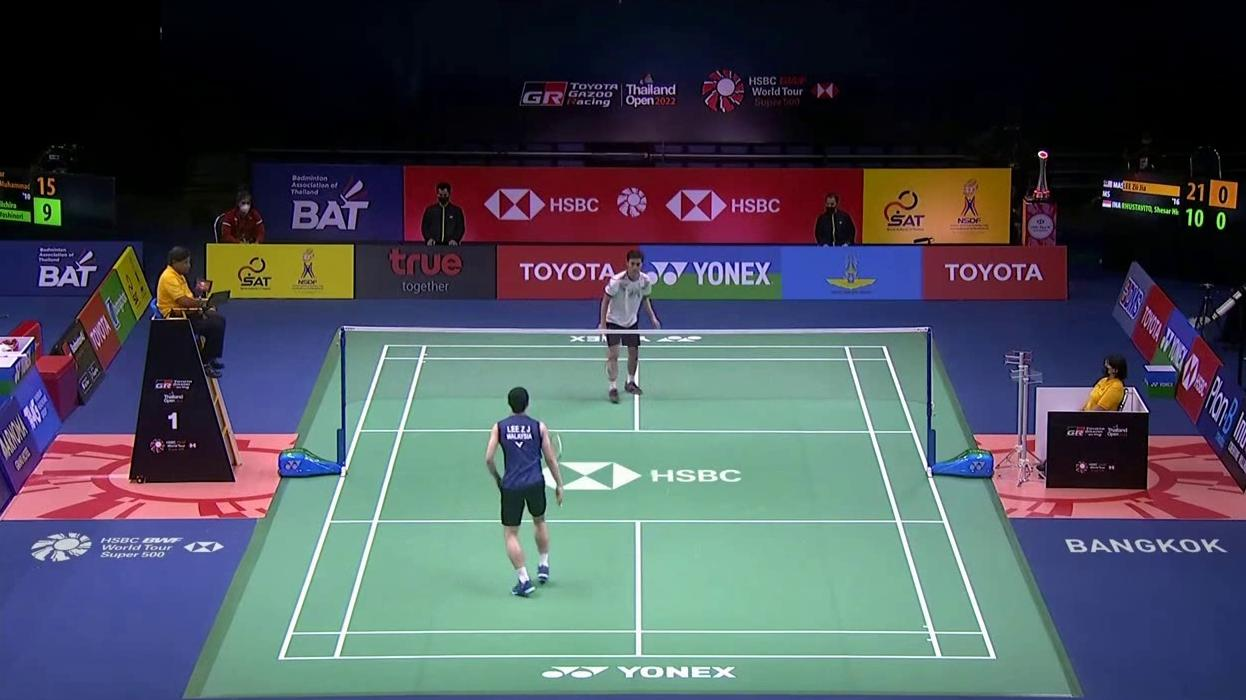racket: (542, 430, 563, 508), (598, 324, 619, 380)
shuttle: (651, 469, 657, 475)
